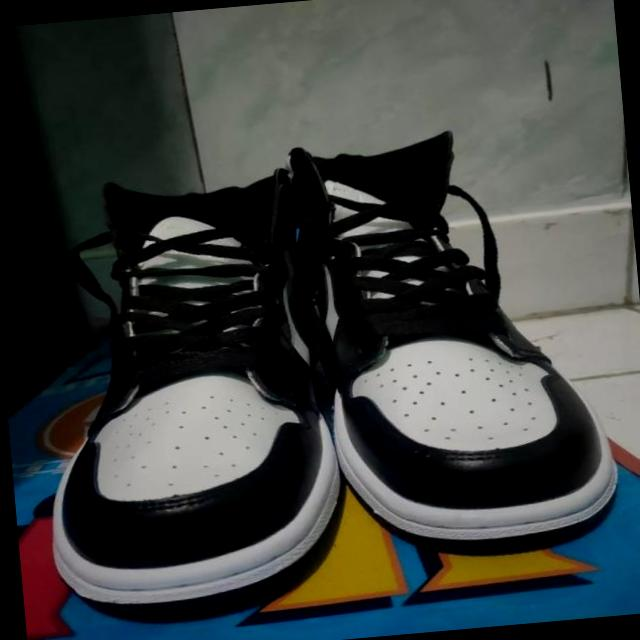nike_fake_jordan: (12, 152, 355, 619), (288, 121, 630, 568)
